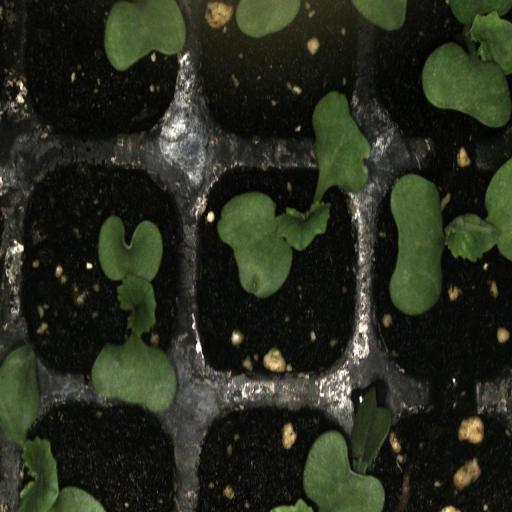seedling: (17, 152, 192, 384), (192, 151, 366, 384), (367, 150, 512, 386), (368, 0, 512, 147)
